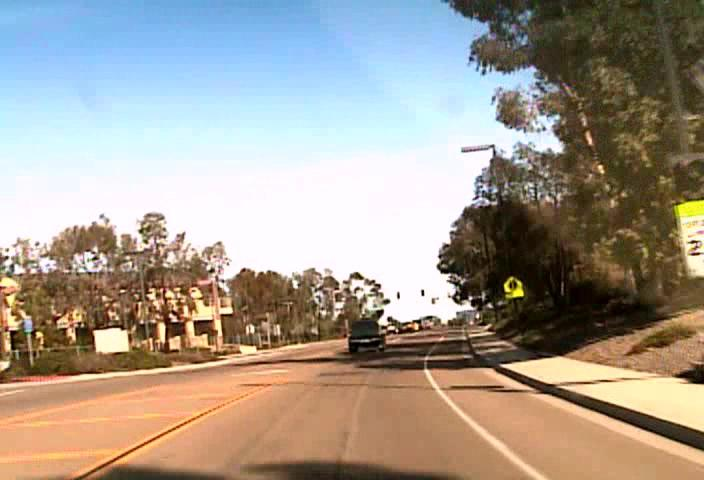school: (504, 275, 522, 291)
